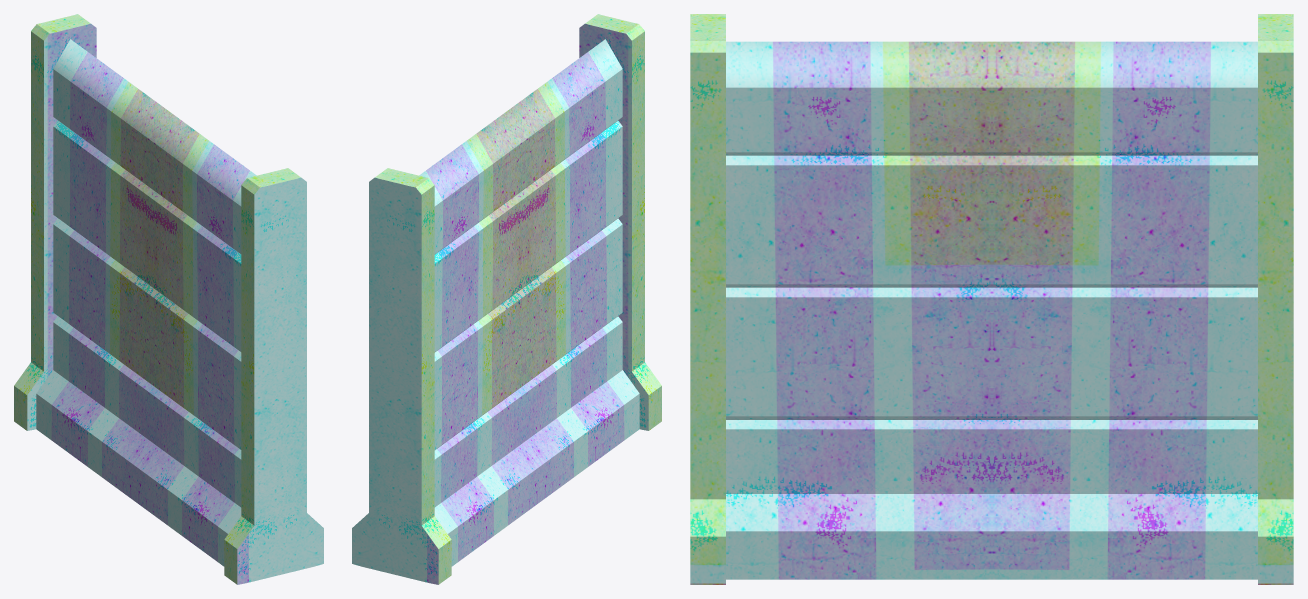
File: Fence.FBX
The picture shows the model from 3 angles, left to right: view 1: azimuth 30°, elevation 25°; view 2: azimuth 150°, elevation 25°; view 3: azimuth 270°, elevation 25°; orthographic projection. The views are drawn at different scales.
Parts seen in each view (by area): view 1: Box001; view 2: Box001; view 3: Box001.
Part boxes in pixels (bbox=[...]): Box001: bbox=[14, 14, 323, 584]; Box001: bbox=[352, 14, 661, 584]; Box001: bbox=[690, 14, 1293, 584].
Bounding box in the file's own units: 14.96 × 64.84 × 66.93.
